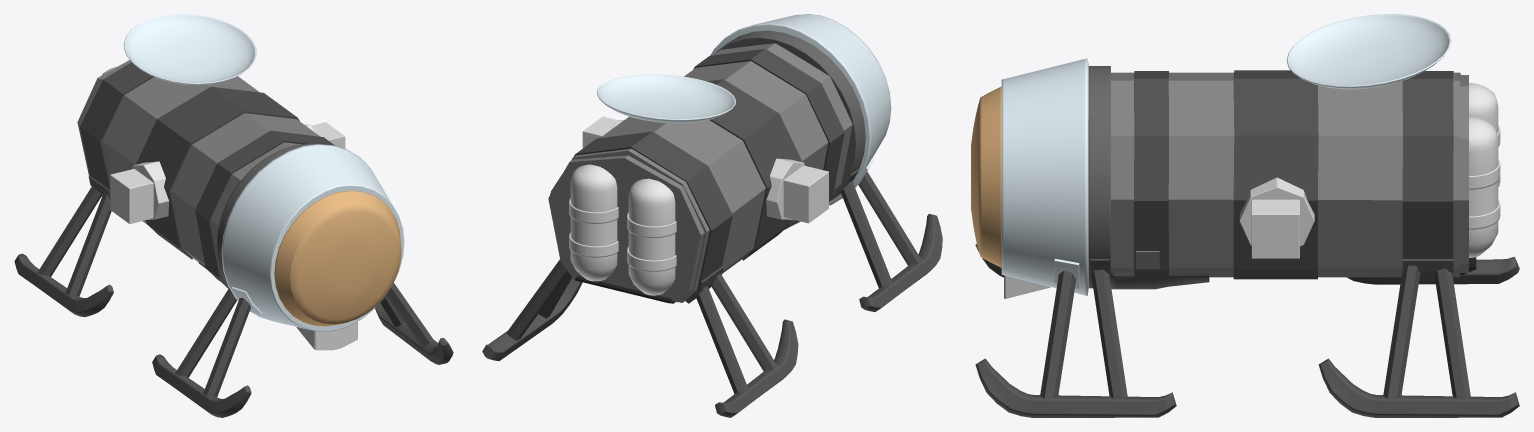
Rendered from Spaceship.fbx.
3 renders of one model, left to right at view 1: azimuth 30°, elevation 25°; view 2: azimuth 150°, elevation 25°; view 3: azimuth 270°, elevation 25°, orthographic. The views are drawn at different scales.
Parts seen in each view (by area): view 1: Front Window, Front Cover, Hull, Circle, Skids.001, Hull.002, Hull.004, Skids.002, Thruster Holder, Ring, Cube; view 2: Hull, Hull.002, Skids.002, Cylinder, Hull.001, Front Cover, Skids.001, Circle, Hull.004, Thruster Holder, Ring, Cylinder.001 (+1 smaller); view 3: Hull, Front Cover, Hull.002, Hull.004, Skids.002, Skids.001, Circle, Front Window, Thruster Holder, Ring, Cylinder, Hull.001 (+3 smaller).
Boxes of the visible parts, x1=… form: Front Window: x1=274, y1=190, x2=401, y2=326; Front Cover: x1=221, y1=144, x2=404, y2=331; Hull: x1=79, y1=61, x2=319, y2=277; Circle: x1=124, y1=14, x2=256, y2=84; Skids.001: x1=152, y1=283, x2=453, y2=417; Hull.002: x1=80, y1=62, x2=335, y2=287; Hull.004: x1=136, y1=86, x2=299, y2=259; Skids.002: x1=14, y1=185, x2=113, y2=316; Thruster Holder: x1=110, y1=122, x2=345, y2=223; Ring: x1=216, y1=143, x2=316, y2=276; Cube: x1=296, y1=321, x2=357, y2=350; Hull: x1=550, y1=43, x2=852, y2=302; Hull.002: x1=551, y1=48, x2=844, y2=303; Skids.002: x1=482, y1=259, x2=798, y2=417; Cylinder: x1=570, y1=164, x2=675, y2=295; Hull.001: x1=548, y1=155, x2=704, y2=302; Front Cover: x1=710, y1=14, x2=891, y2=205; Skids.001: x1=840, y1=171, x2=942, y2=311; Circle: x1=597, y1=74, x2=735, y2=123; Hull.004: x1=707, y1=79, x2=802, y2=260; Thruster Holder: x1=582, y1=116, x2=828, y2=223; Ring: x1=715, y1=30, x2=865, y2=200; Cylinder.001: x1=569, y1=198, x2=676, y2=271; Hull: x1=1111, y1=72, x2=1460, y2=277; Front Cover: x1=1001, y1=58, x2=1088, y2=295; Hull.002: x1=1134, y1=71, x2=1453, y2=281; Hull.004: x1=1233, y1=70, x2=1318, y2=279; Skids.002: x1=1318, y1=256, x2=1519, y2=417; Skids.001: x1=975, y1=244, x2=1176, y2=417; Circle: x1=1286, y1=14, x2=1451, y2=89; Front Window: x1=971, y1=86, x2=1001, y2=267; Thruster Holder: x1=1239, y1=177, x2=1314, y2=258; Ring: x1=1088, y1=66, x2=1110, y2=288; Cylinder: x1=1469, y1=83, x2=1498, y2=257; Hull.001: x1=1460, y1=75, x2=1468, y2=272.
Bounding box in the file's own units: 1095 × 1083 × 1743.
